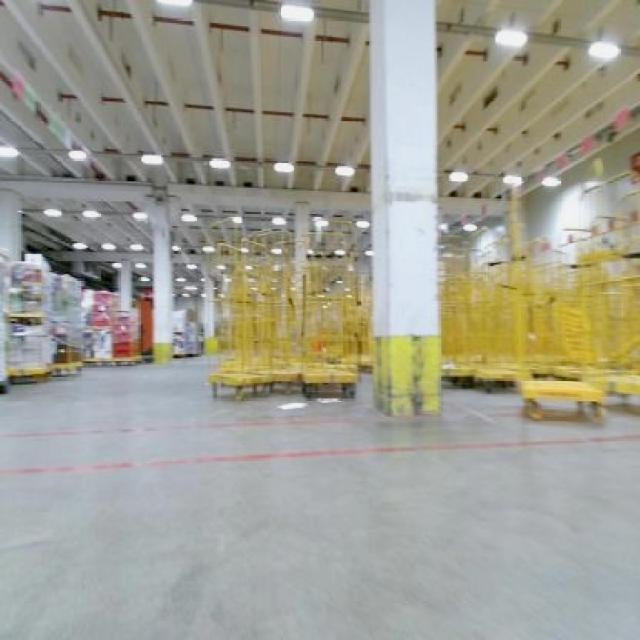floor: (0, 357, 637, 637)
pallets: (208, 220, 358, 394)
